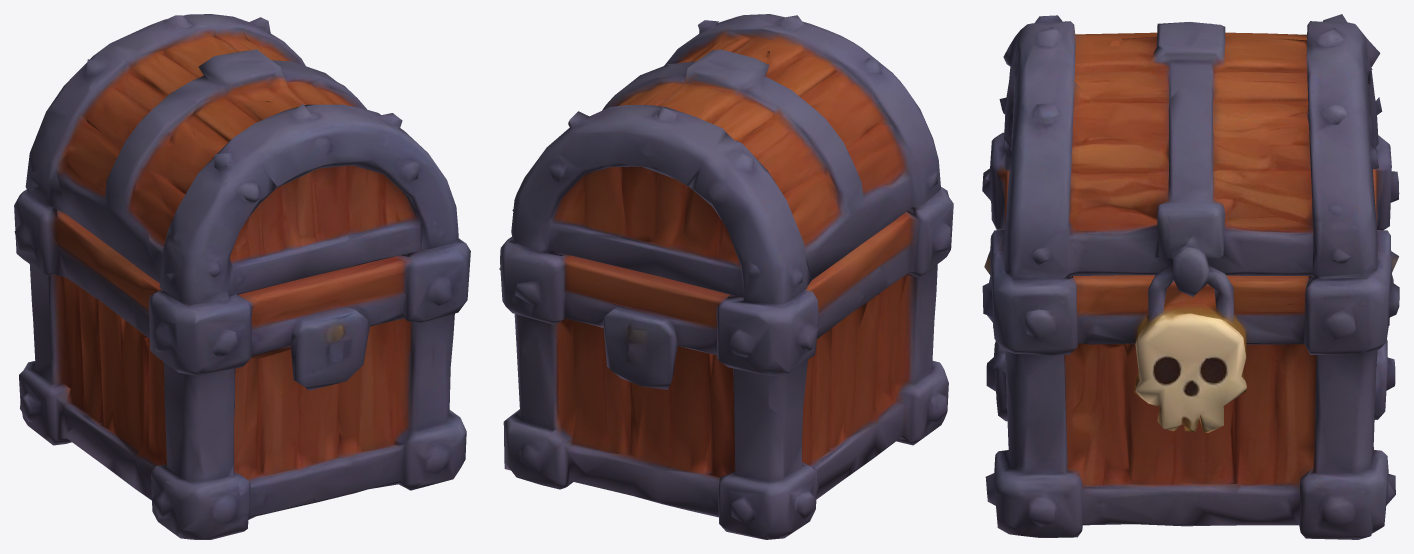
The model's file is stash_chest-eIyTj0Vr.glb.
The picture shows the model from 3 angles, left to right: view 1: azimuth 30°, elevation 25°; view 2: azimuth 150°, elevation 25°; view 3: azimuth 270°, elevation 25°; orthographic projection. The views are drawn at different scales.
Visible parts, largest first — view 1: tripo_node_e8e6c006-fd4d-4521-9267-42bf8b721a7e; view 2: tripo_node_e8e6c006-fd4d-4521-9267-42bf8b721a7e; view 3: tripo_node_e8e6c006-fd4d-4521-9267-42bf8b721a7e.
Boxes of the visible parts, <box> form: tripo_node_e8e6c006-fd4d-4521-9267-42bf8b721a7e: <box>14,14,470,539</box>; tripo_node_e8e6c006-fd4d-4521-9267-42bf8b721a7e: <box>499,14,953,539</box>; tripo_node_e8e6c006-fd4d-4521-9267-42bf8b721a7e: <box>982,14,1399,539</box>.
Bounding box in the file's own units: 0.8517 × 1 × 0.8691.
Materials: 1 (1 with a texture image).
